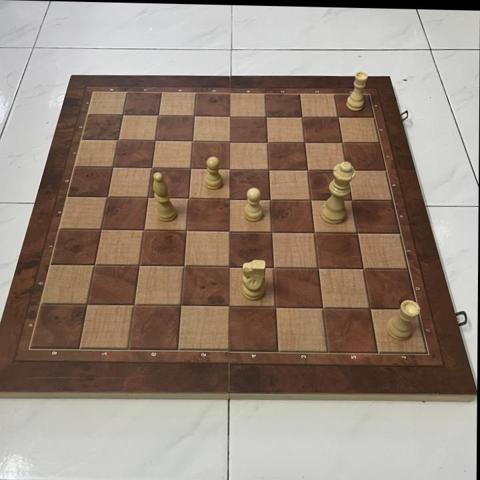xcorner: (151, 107, 168, 124), (187, 107, 204, 124), (259, 108, 276, 125), (148, 132, 165, 149), (223, 133, 240, 150), (260, 133, 277, 150), (335, 134, 352, 151), (222, 190, 239, 207), (179, 222, 196, 239), (87, 257, 104, 274), (311, 259, 328, 276), (127, 297, 144, 314), (174, 297, 191, 314), (268, 298, 285, 315), (362, 299, 379, 316), (115, 107, 132, 123), (223, 108, 240, 124), (295, 109, 312, 125), (331, 109, 348, 125), (106, 159, 122, 176), (184, 160, 200, 177), (223, 160, 239, 177), (301, 161, 317, 178), (100, 189, 117, 205), (141, 189, 157, 206), (263, 191, 280, 207), (345, 191, 361, 208), (94, 221, 110, 238), (222, 223, 239, 239), (265, 223, 281, 240), (307, 224, 324, 240), (350, 224, 367, 240), (132, 258, 149, 274), (177, 258, 193, 275), (222, 258, 238, 275), (266, 259, 283, 275), (80, 297, 97, 313), (221, 298, 238, 314), (315, 299, 332, 315), (111, 132, 127, 148), (186, 133, 202, 149), (298, 134, 314, 150), (145, 160, 161, 176), (262, 161, 278, 177), (340, 162, 356, 178), (182, 190, 198, 206), (304, 191, 320, 207), (137, 222, 153, 238), (356, 260, 372, 276)
